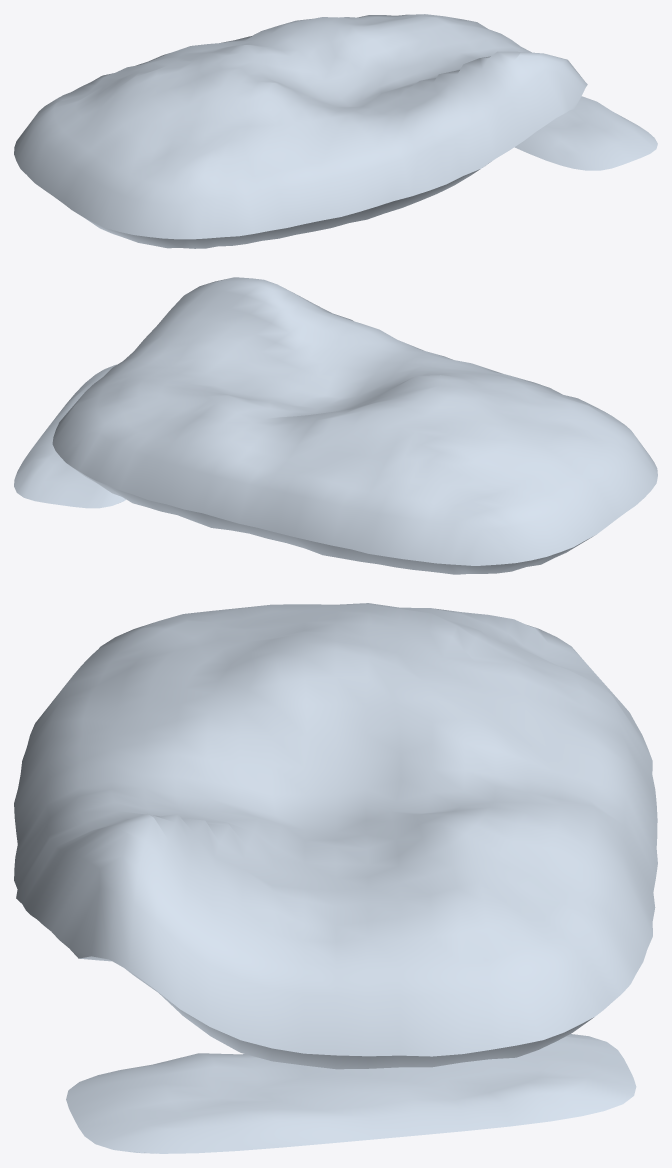
The model's file is textiles_pillow_messy_b.fbx.
The picture shows the model from 3 angles, top to bottom: view 1: azimuth 30°, elevation 25°; view 2: azimuth 150°, elevation 25°; view 3: azimuth 270°, elevation 25°; orthographic projection. The views are drawn at different scales.
Visible parts, largest first — view 1: textiles_pillow_messy_b; view 2: textiles_pillow_messy_b; view 3: textiles_pillow_messy_b.
Part boxes in pixels (bbox=[...]): textiles_pillow_messy_b: bbox=[14, 14, 657, 248]; textiles_pillow_messy_b: bbox=[14, 277, 657, 574]; textiles_pillow_messy_b: bbox=[14, 603, 657, 1153].
Bounding box in the file's own units: 0.7266 × 0.1626 × 0.431.
